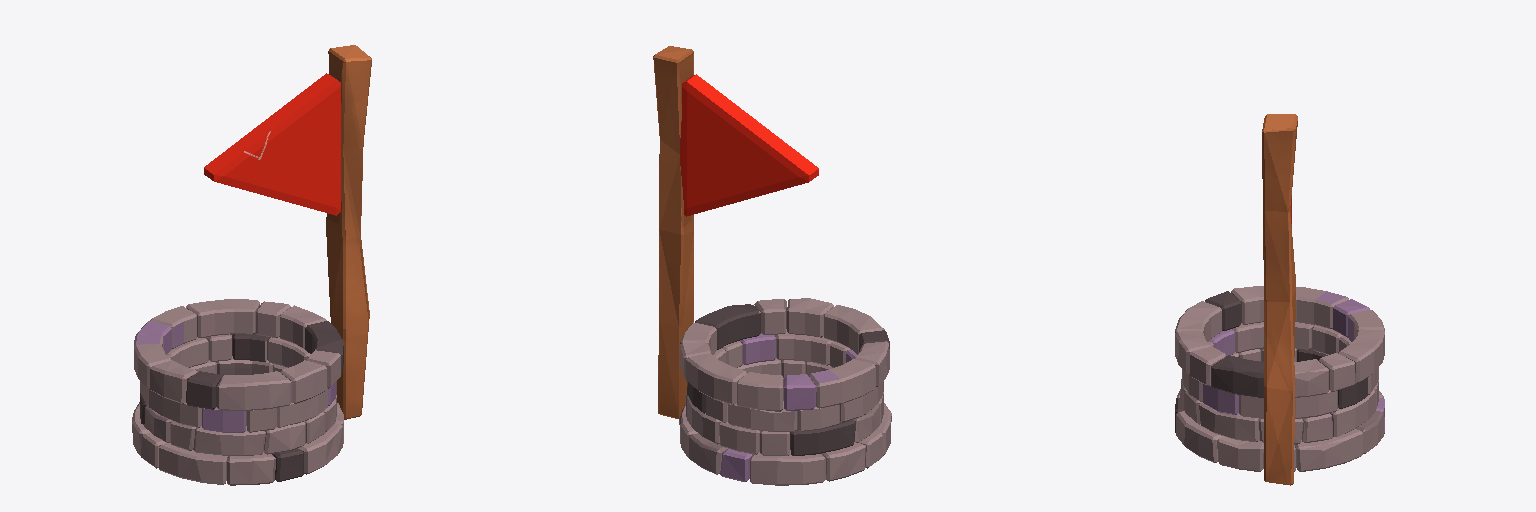
3 views of the same model, side by side, from view 1: azimuth 30°, elevation 25°; view 2: azimuth 150°, elevation 25°; view 3: azimuth 270°, elevation 25° (orthographic).
Parts seen in each view (by area): view 1: Cube.003; view 2: Cube.003; view 3: Cube.003.
Part boxes in pixels (x1,y1,x2,y2): Cube.003: (132,45,371,485); Cube.003: (653,46,891,485); Cube.003: (1175,114,1384,485).
Bounding box in the file's own units: 17.45 × 27.94 × 14.65.
2 materials, 1 textured.